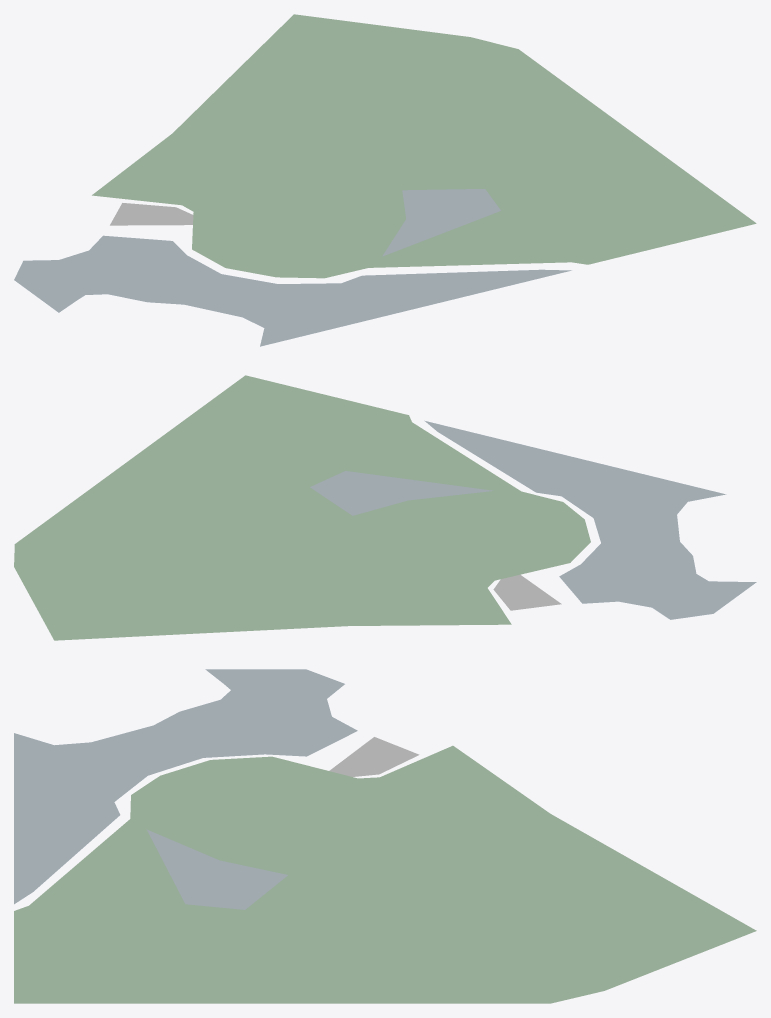
File: 129_75_mid.glb
The picture shows the model from 3 angles, top to bottom: view 1: azimuth 30°, elevation 25°; view 2: azimuth 150°, elevation 25°; view 3: azimuth 270°, elevation 25°; orthographic projection. The views are drawn at different scales.
Bounding box in the file's own units: 500 × 2.08 × 466.
